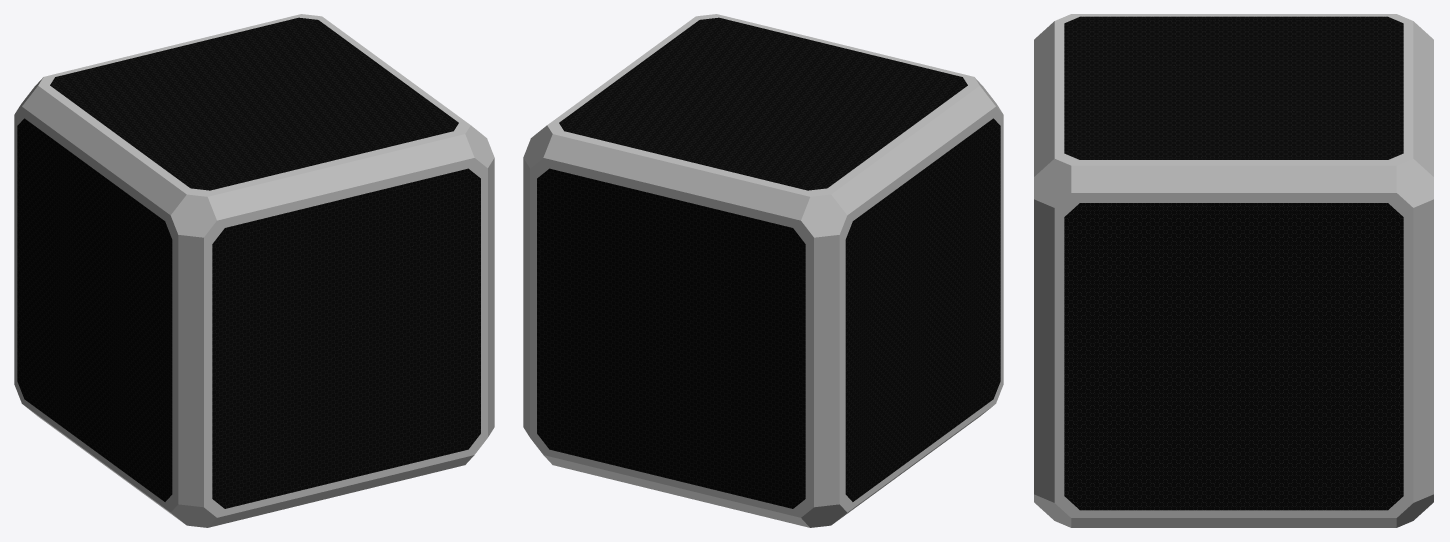
File: Itr_Obj_Speaker4_01.FBX
3 views of the same model, side by side, from view 1: azimuth 30°, elevation 25°; view 2: azimuth 150°, elevation 25°; view 3: azimuth 270°, elevation 25° (orthographic). The views are drawn at different scales.
Parts seen in each view (by area): view 1: Itr_Obj_Speaker4_01; view 2: Itr_Obj_Speaker4_01; view 3: Itr_Obj_Speaker4_01.
Boxes of the visible parts, x1=… form: Itr_Obj_Speaker4_01: x1=14, y1=14, x2=494, y2=527; Itr_Obj_Speaker4_01: x1=523, y1=14, x2=1003, y2=527; Itr_Obj_Speaker4_01: x1=1034, y1=14, x2=1433, y2=527.
Bounding box in the file's own units: 10.52 × 10.46 × 10.52.
